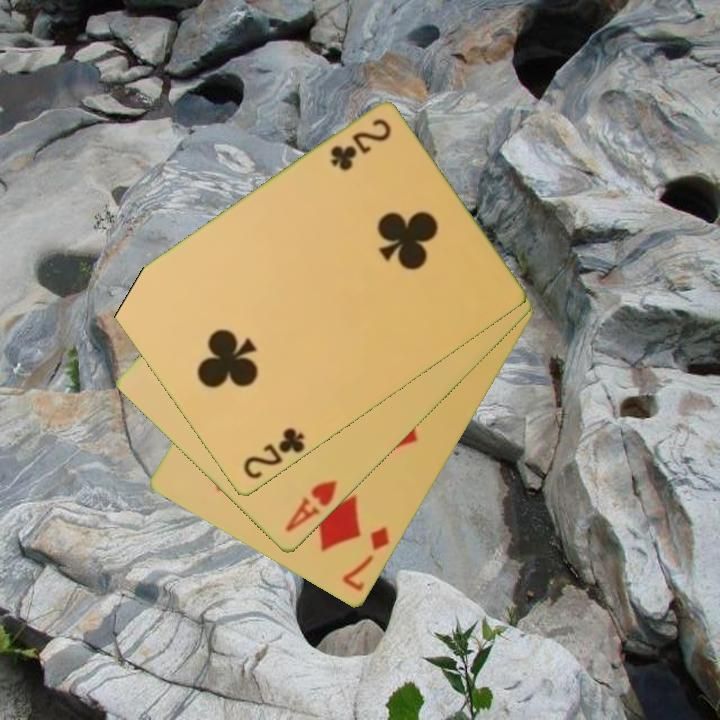2c: (239, 424, 308, 483), (326, 115, 394, 174)
7d: (338, 523, 393, 595)
Ah: (281, 476, 341, 536)
